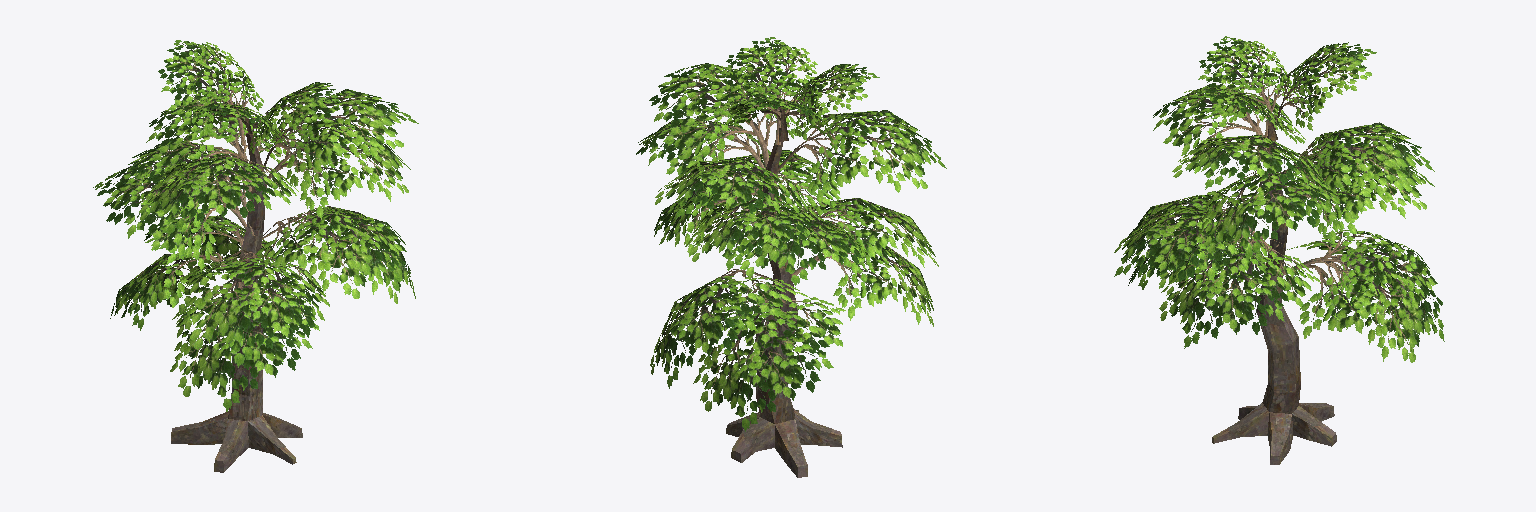
3 renders of one model, left to right at view 1: azimuth 30°, elevation 25°; view 2: azimuth 150°, elevation 25°; view 3: azimuth 270°, elevation 25°, orthographic.
Visible parts, largest first — view 1: CombinedPolyh000, CombinedPolyh001; view 2: CombinedPolyh000, CombinedPolyh001; view 3: CombinedPolyh000, CombinedPolyh001.
Boxes of the visible parts, x1=… form: CombinedPolyh000: x1=93, y1=40, x2=418, y2=411; CombinedPolyh001: x1=171, y1=133, x2=302, y2=472; CombinedPolyh000: x1=636, y1=37, x2=946, y2=431; CombinedPolyh001: x1=726, y1=127, x2=842, y2=477; CombinedPolyh000: x1=1114, y1=36, x2=1444, y2=362; CombinedPolyh001: x1=1212, y1=121, x2=1336, y2=464.
Bounding box in the file's own units: 4.94 × 6.3 × 5.25.
Materials: 2 (2 with a texture image).